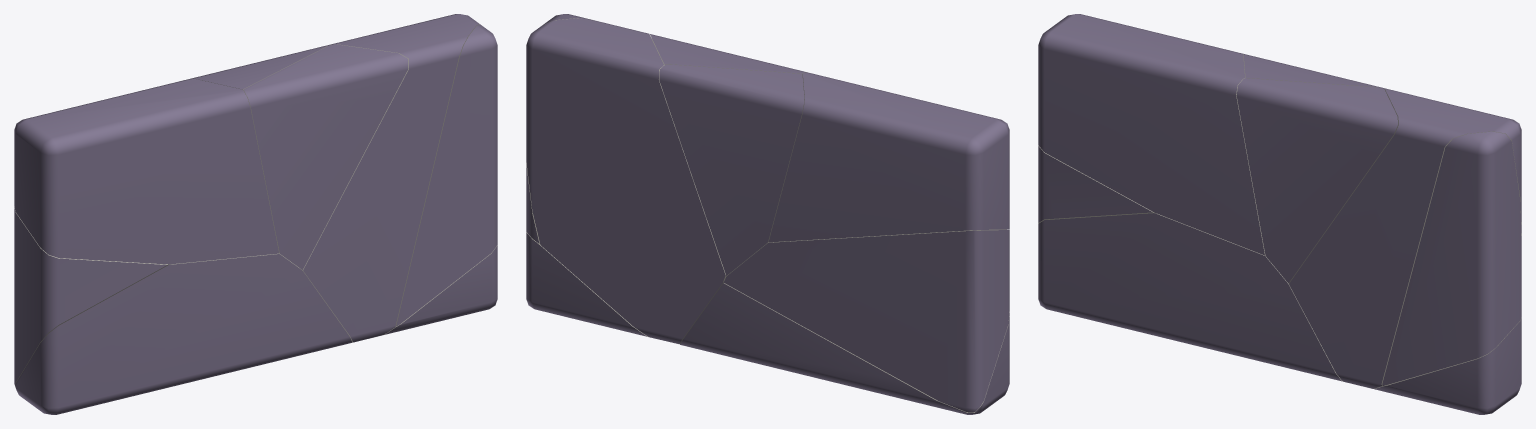
Rendered from SM_Obstacle_Fractured.glb.
3 views of the same model, side by side, from view 1: azimuth 30°, elevation 25°; view 2: azimuth 150°, elevation 25°; view 3: azimuth 330°, elevation 25° (orthographic).
Parts seen in each view (by area): view 1: SM_Obstacle_Fractured.003, SM_Obstacle_Fractured.004, SM_Obstacle_Fractured.005, SM_Obstacle_Fractured.001, SM_Obstacle_Fractured.007, SM_Obstacle_Fractured, SM_Obstacle_Fractured.002, SM_Obstacle_Fractured.006; view 2: SM_Obstacle_Fractured.005, SM_Obstacle_Fractured, SM_Obstacle_Fractured.003, SM_Obstacle_Fractured.006, SM_Obstacle_Fractured.004, SM_Obstacle_Fractured.002, SM_Obstacle_Fractured.001, SM_Obstacle_Fractured.007; view 3: SM_Obstacle_Fractured.003, SM_Obstacle_Fractured.004, SM_Obstacle_Fractured.005, SM_Obstacle_Fractured.007, SM_Obstacle_Fractured.001, SM_Obstacle_Fractured.002, SM_Obstacle_Fractured, SM_Obstacle_Fractured.006.
Boxes of the visible parts, <box> form: SM_Obstacle_Fractured.003: <box>14,78,279,264</box>; SM_Obstacle_Fractured.004: <box>15,253,352,414</box>; SM_Obstacle_Fractured.005: <box>300,14,479,342</box>; SM_Obstacle_Fractured.001: <box>243,44,408,269</box>; SM_Obstacle_Fractured.007: <box>396,24,497,326</box>; SM_Obstacle_Fractured: <box>14,207,169,385</box>; SM_Obstacle_Fractured.002: <box>384,245,497,334</box>; SM_Obstacle_Fractured.006: <box>187,44,330,89</box>; SM_Obstacle_Fractured.005: <box>526,18,728,344</box>; SM_Obstacle_Fractured: <box>723,230,1009,412</box>; SM_Obstacle_Fractured.003: <box>768,73,1009,242</box>; SM_Obstacle_Fractured.006: <box>659,64,804,275</box>; SM_Obstacle_Fractured.004: <box>680,283,1009,414</box>; SM_Obstacle_Fractured.002: <box>526,232,647,336</box>; SM_Obstacle_Fractured.001: <box>650,34,808,73</box>; SM_Obstacle_Fractured.007: <box>526,14,593,244</box>; SM_Obstacle_Fractured.003: <box>1038,14,1265,255</box>; SM_Obstacle_Fractured.004: <box>1038,213,1342,381</box>; SM_Obstacle_Fractured.005: <box>1289,89,1521,388</box>; SM_Obstacle_Fractured.007: <box>1382,131,1521,385</box>; SM_Obstacle_Fractured.001: <box>1236,78,1397,283</box>; SM_Obstacle_Fractured.002: <box>1374,317,1521,414</box>; SM_Obstacle_Fractured: <box>1038,145,1155,223</box>; SM_Obstacle_Fractured.006: <box>1243,54,1386,88</box>.
Bounding box in the file's own units: 2.29 × 1.33 × 0.3318.
1 material, 1 textured.
